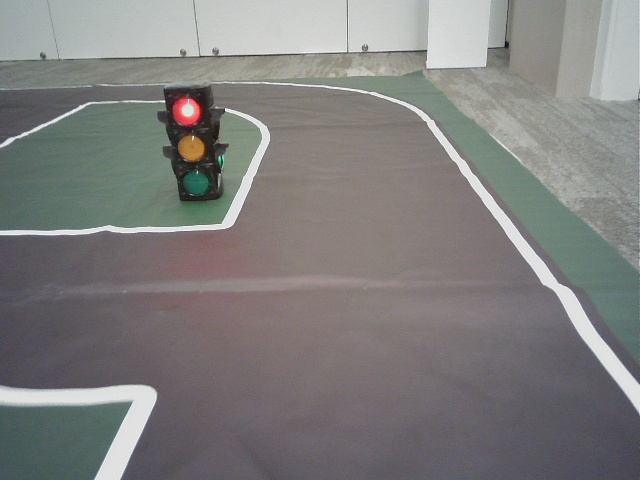red: (170, 90, 211, 197)
